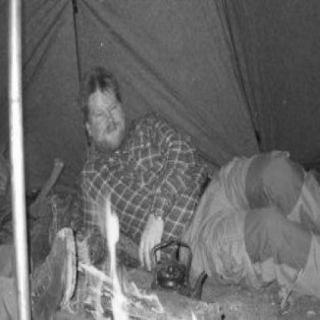Fire: (182, 300, 195, 317)
other: (71, 115, 203, 257)
